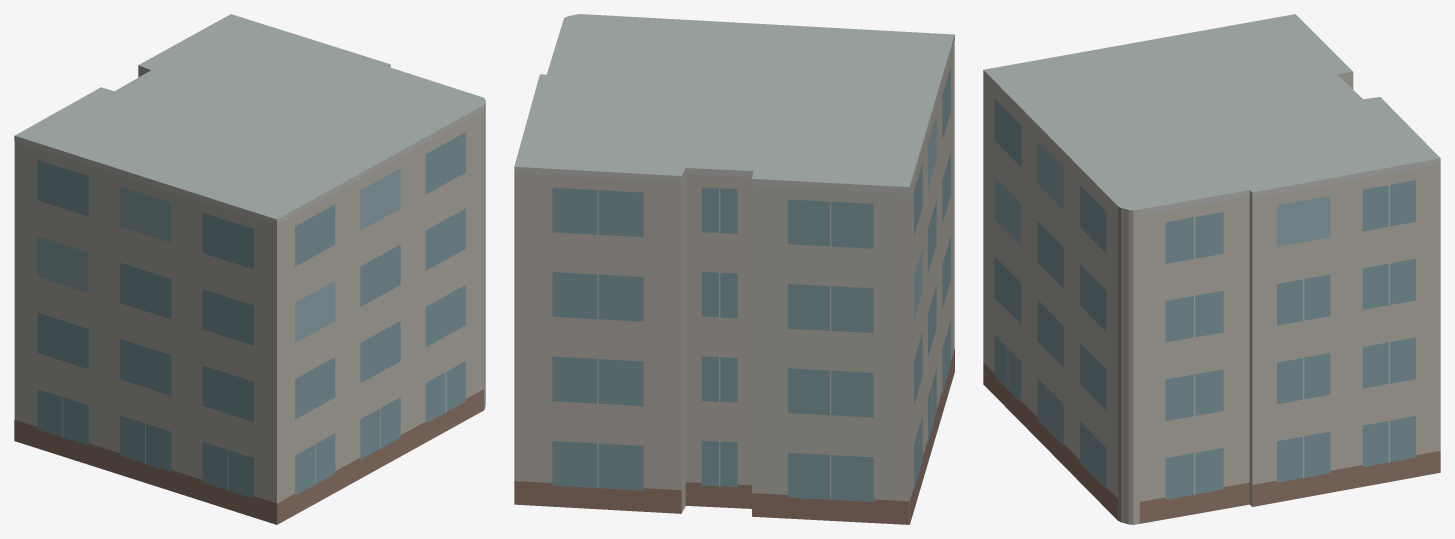
Rendered from survey-upis-32742266.glb.
3 renders of one model, left to right at view 1: azimuth 30°, elevation 25°; view 2: azimuth 150°, elevation 25°; view 3: azimuth 270°, elevation 25°, orthographic. The views are drawn at different scales.
Parts seen in each view (by area): view 1: survey-upis-32742266.tmp; view 2: survey-upis-32742266.tmp; view 3: survey-upis-32742266.tmp.
Part boxes in pixels (left/top/right/bottom): survey-upis-32742266.tmp: left=14, top=14, right=485, bottom=524; survey-upis-32742266.tmp: left=514, top=14, right=954, bottom=524; survey-upis-32742266.tmp: left=983, top=14, right=1440, bottom=524.
Bounding box in the file's own units: 17.56 × 13.1 × 17.28.
